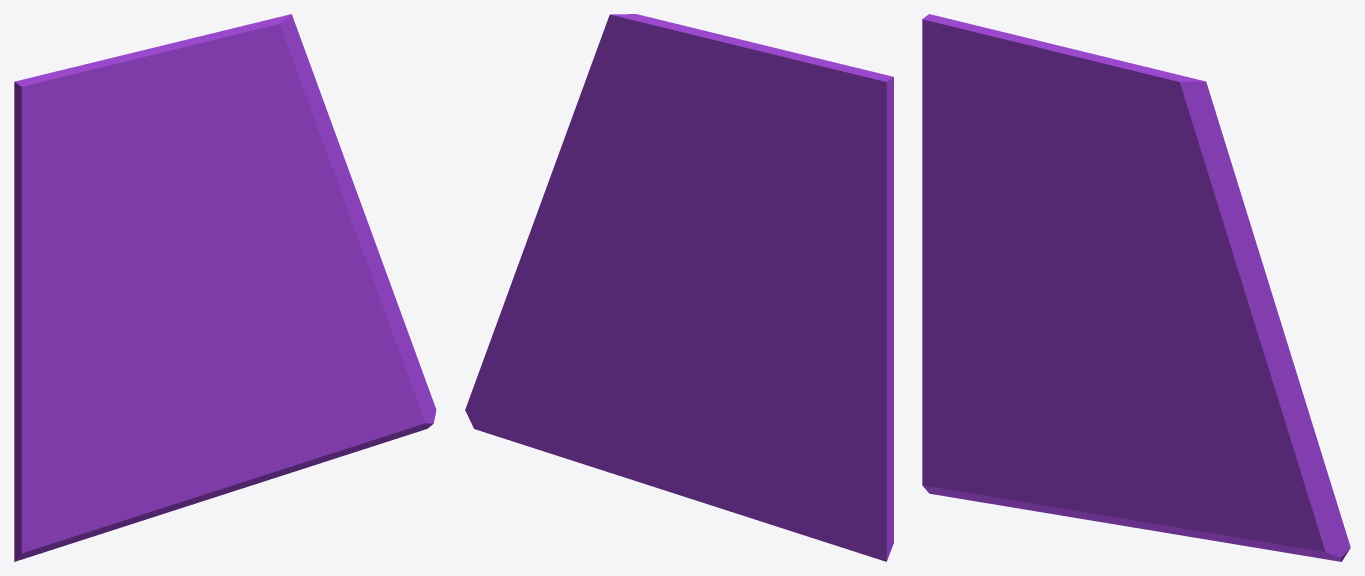
The model's file is Window_39_3_chunks.fbx.
The picture shows the model from 3 angles, left to right: view 1: azimuth 30°, elevation 25°; view 2: azimuth 150°, elevation 25°; view 3: azimuth 330°, elevation 25°; orthographic projection.
Parts seen in each view (by area): view 1: Window_39_3_2, Window_39_3_8, Window_39_3_4, Window_39_3_0, Window_39_3_11, Window_39_3_3, Window_39_3_1, Window_39_3_14, Window_39_3_9, Window_39_3_5, Window_39_3_13, Window_39_3_15 (+4 smaller); view 2: Window_39_3_2, Window_39_3_8, Window_39_3_4, Window_39_3_11, Window_39_3_9, Window_39_3_5, Window_39_3_0, Window_39_3_3, Window_39_3_13, Window_39_3_7, Window_39_3_15, Window_39_3_14 (+1 smaller); view 3: Window_39_3_2, Window_39_3_8, Window_39_3_4, Window_39_3_11, Window_39_3_0, Window_39_3_3, Window_39_3_5, Window_39_3_9, Window_39_3_14, Window_39_3_1, Window_39_3_13, Window_39_3_15 (+4 smaller).
Boxes of the visible parts, <box> form: Window_39_3_2: <box>14,320,188,561</box>; Window_39_3_8: <box>32,31,235,229</box>; Window_39_3_4: <box>89,315,308,537</box>; Window_39_3_0: <box>238,201,416,376</box>; Window_39_3_11: <box>221,14,359,212</box>; Window_39_3_3: <box>112,214,238,399</box>; Window_39_3_1: <box>14,260,112,407</box>; Window_39_3_14: <box>14,77,154,213</box>; Window_39_3_9: <box>182,193,334,293</box>; Window_39_3_5: <box>267,356,436,480</box>; Window_39_3_13: <box>51,200,167,302</box>; Window_39_3_15: <box>14,93,63,275</box>; Window_39_3_2: <box>720,305,893,561</box>; Window_39_3_8: <box>674,26,869,229</box>; Window_39_3_4: <box>597,304,812,537</box>; Window_39_3_11: <box>541,14,685,212</box>; Window_39_3_9: <box>556,176,733,299</box>; Window_39_3_5: <box>465,353,634,480</box>; Window_39_3_0: <box>485,201,651,355</box>; Window_39_3_3: <box>672,224,790,379</box>; Window_39_3_13: <box>740,195,873,310</box>; Window_39_3_7: <box>492,294,674,388</box>; Window_39_3_15: <box>827,94,893,281</box>; Window_39_3_14: <box>766,70,893,206</box>; Window_39_3_2: <box>922,296,1088,505</box>; Window_39_3_8: <box>946,18,1135,240</box>; Window_39_3_4: <box>1003,353,1208,535</box>; Window_39_3_11: <box>1130,64,1273,300</box>; Window_39_3_0: <box>1139,294,1330,497</box>; Window_39_3_3: <box>1013,218,1138,412</box>; Window_39_3_5: <box>1181,482,1350,561</box>; Window_39_3_9: <box>1082,224,1234,331</box>; Window_39_3_14: <box>922,14,1054,196</box>; Window_39_3_1: <box>922,193,1013,339</box>; Window_39_3_13: <box>951,177,1067,278</box>; Window_39_3_15: <box>922,47,963,176</box>.
Size of the model in its own units: 927 by 1008 by 27.2.
